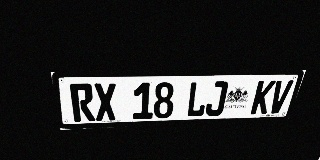1: (133, 82, 154, 119)
8: (153, 82, 175, 119)
J: (204, 81, 229, 116)
K: (250, 80, 276, 114)
L: (186, 81, 209, 117)
R: (69, 83, 95, 122)
V: (267, 80, 294, 114)
X: (93, 83, 117, 121)
